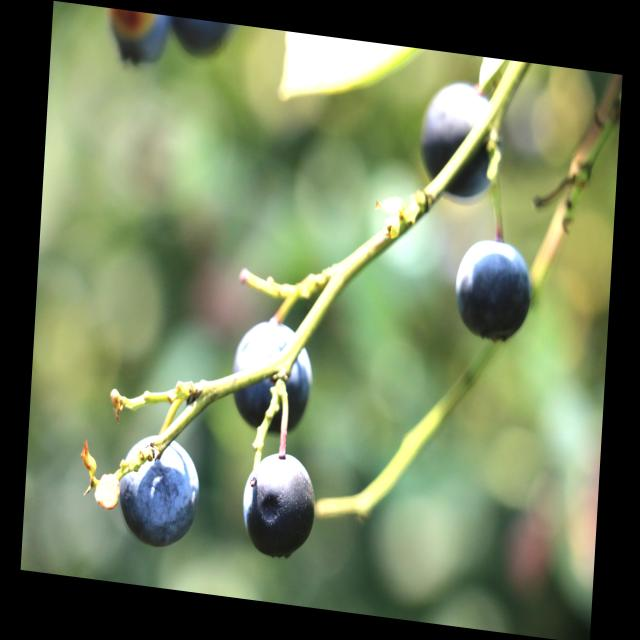blueberry: (226, 313, 316, 433), (417, 81, 502, 201), (116, 429, 201, 548), (241, 449, 316, 560), (452, 239, 532, 341)
